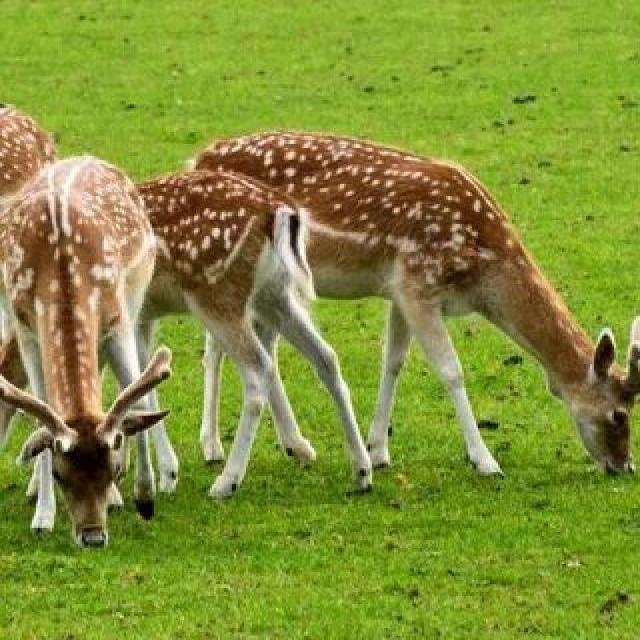deer: (168, 69, 624, 530), (0, 116, 213, 544)
